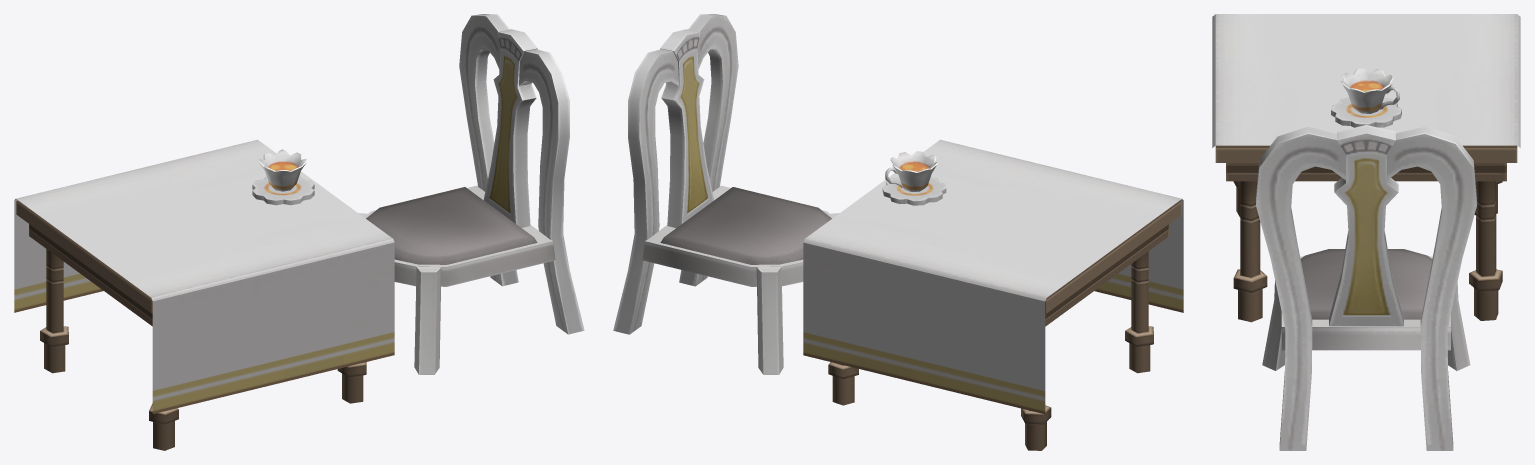
The model's file is my_teaparty_01_table_09.glb.
3 views of the same model, side by side, from view 1: azimuth 30°, elevation 25°; view 2: azimuth 150°, elevation 25°; view 3: azimuth 270°, elevation 25° (orthographic). The views are drawn at different scales.
Visible parts, largest first — view 1: my_teaparty_01_table_09; view 2: my_teaparty_01_table_09; view 3: my_teaparty_01_table_09.
Boxes of the visible parts, left/top/right/bottom form: my_teaparty_01_table_09: left=14, top=14, right=584, bottom=450; my_teaparty_01_table_09: left=613, top=14, right=1183, bottom=450; my_teaparty_01_table_09: left=1212, top=14, right=1520, bottom=450.
Bounding box in the file's own units: 0.0115 × 0.00653 × 0.00595.
Materials: 1 (1 with a texture image).
